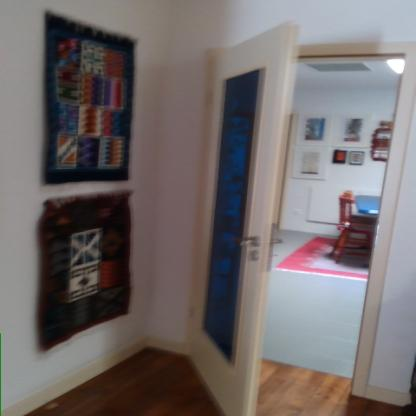semi: (192, 18, 416, 408)
